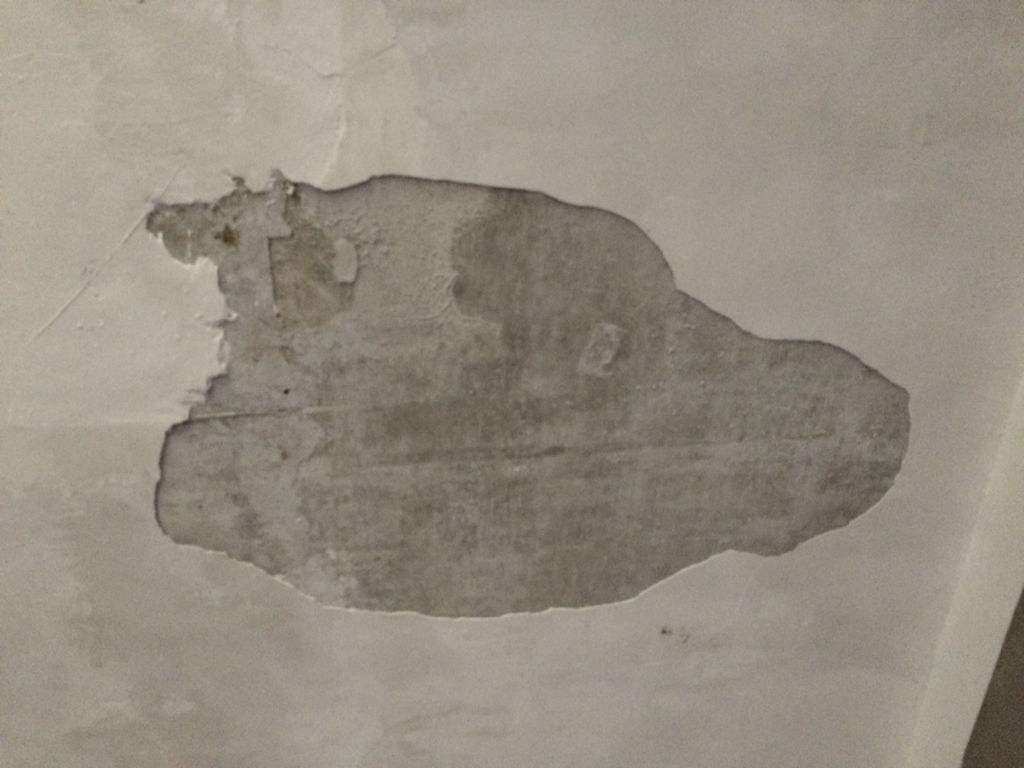Spalling: (142, 172, 911, 620)
